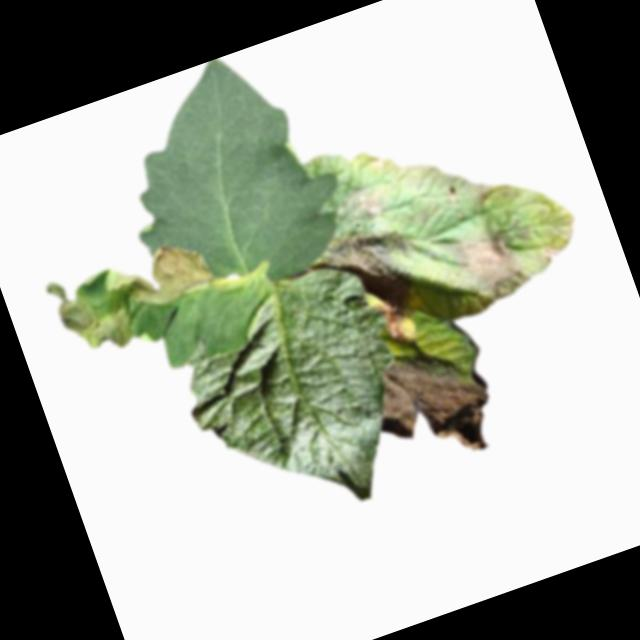Late_blight: (356, 331, 504, 480), (317, 219, 425, 326), (40, 261, 141, 368), (440, 218, 534, 313), (115, 234, 216, 315), (323, 177, 396, 241), (377, 302, 419, 352), (531, 238, 564, 274), (366, 151, 393, 175)
